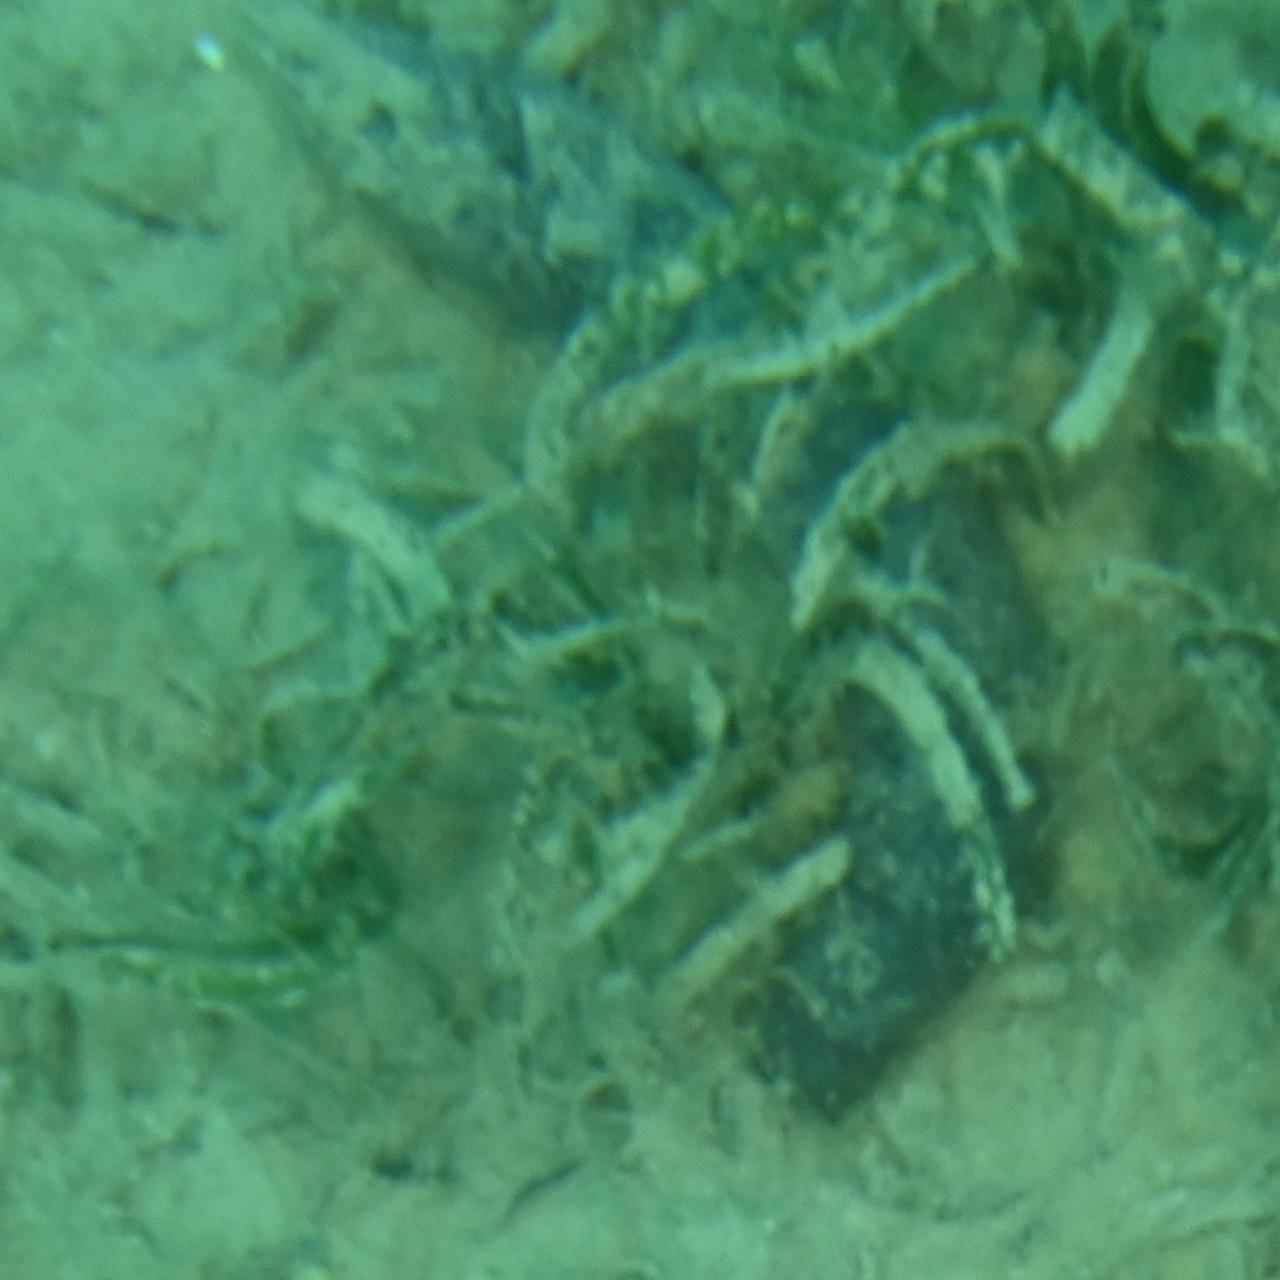Holothuria tubulosa: (224, 0, 1056, 1125)
